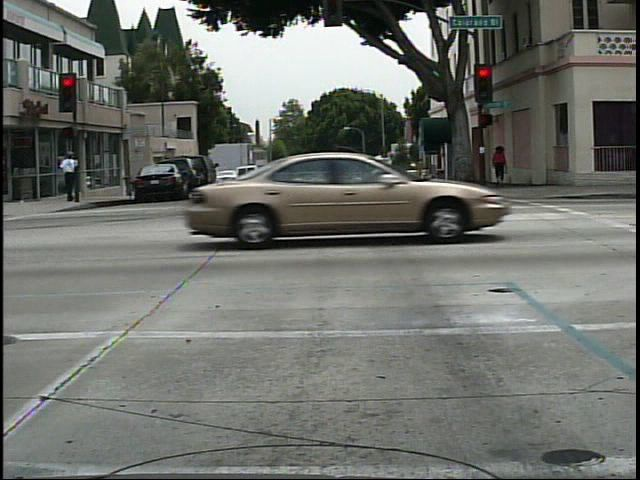person: (59, 143, 79, 206), (490, 142, 508, 185)
